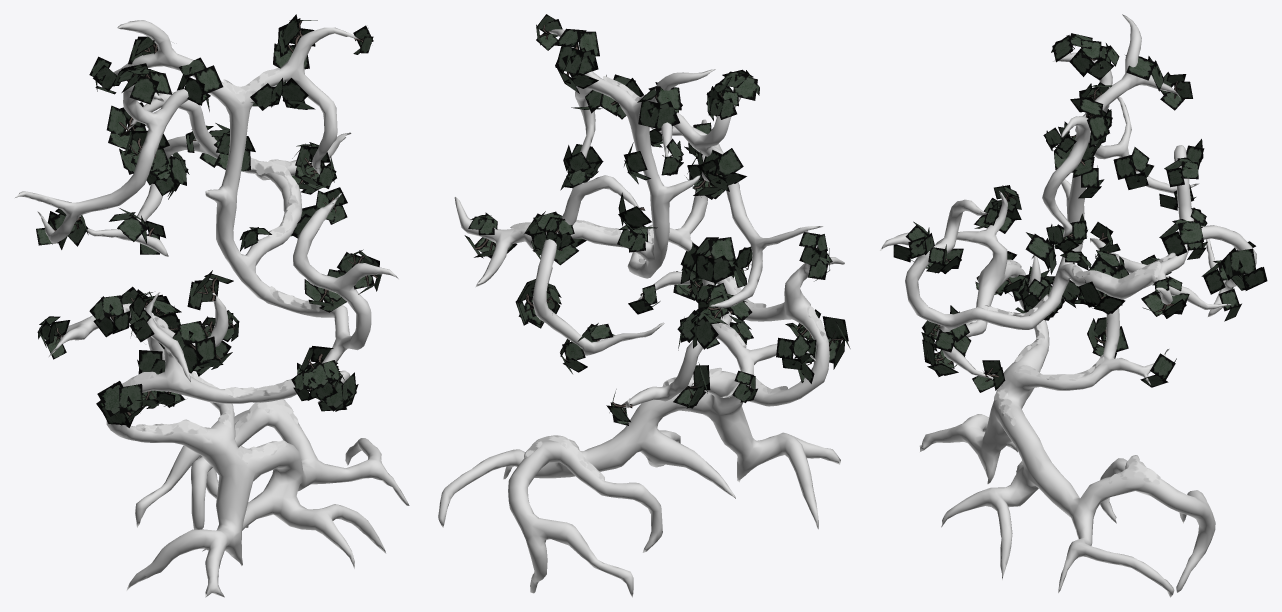
Rendered from OakTree1.fbx.
3 renders of one model, left to right at view 1: azimuth 30°, elevation 25°; view 2: azimuth 150°, elevation 25°; view 3: azimuth 270°, elevation 25°, orthographic. The views are drawn at different scales.
Parts seen in each view (by area): view 1: CurvyOak_2, CurvyOak_2_Leaves, CurvyOak_2_Moss; view 2: CurvyOak_2, CurvyOak_2_Leaves, CurvyOak_2_Moss; view 3: CurvyOak_2, CurvyOak_2_Leaves, CurvyOak_2_Moss.
Boxes of the visible parts, x1,y1,x2,y2 form: CurvyOak_2: (15, 20, 409, 597); CurvyOak_2_Leaves: (36, 14, 381, 427); CurvyOak_2_Moss: (90, 68, 324, 463); CurvyOak_2: (438, 29, 844, 597); CurvyOak_2_Leaves: (464, 14, 850, 425); CurvyOak_2_Moss: (510, 76, 827, 481); CurvyOak_2: (880, 14, 1256, 597); CurvyOak_2_Leaves: (893, 33, 1267, 392); CurvyOak_2_Moss: (939, 113, 1175, 484).
Size of the model in its own units: 304 by 435 by 301.
